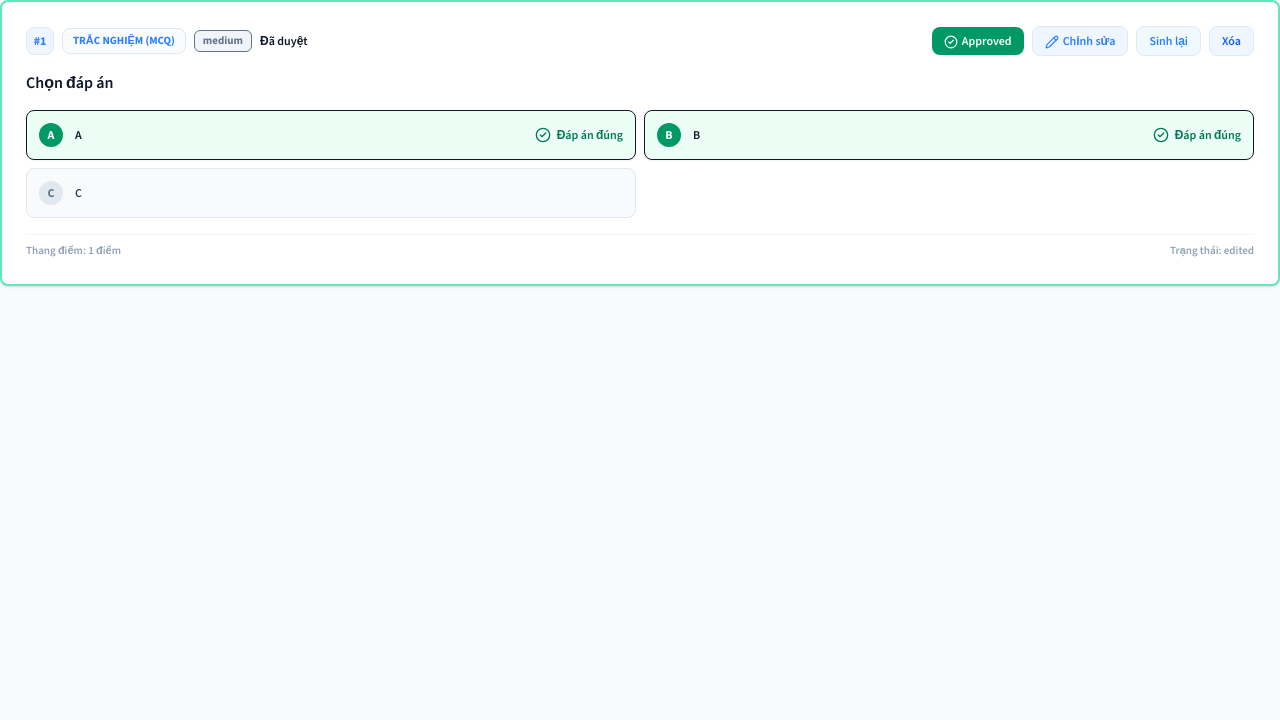
Test: QuestionCardMultipleChoice › does not switch to single-choice while multiple answers remain correct
Click the button "Chỉnh sửa". click: (1080, 41)
box: left=1032, top=26, right=1128, bottom=56
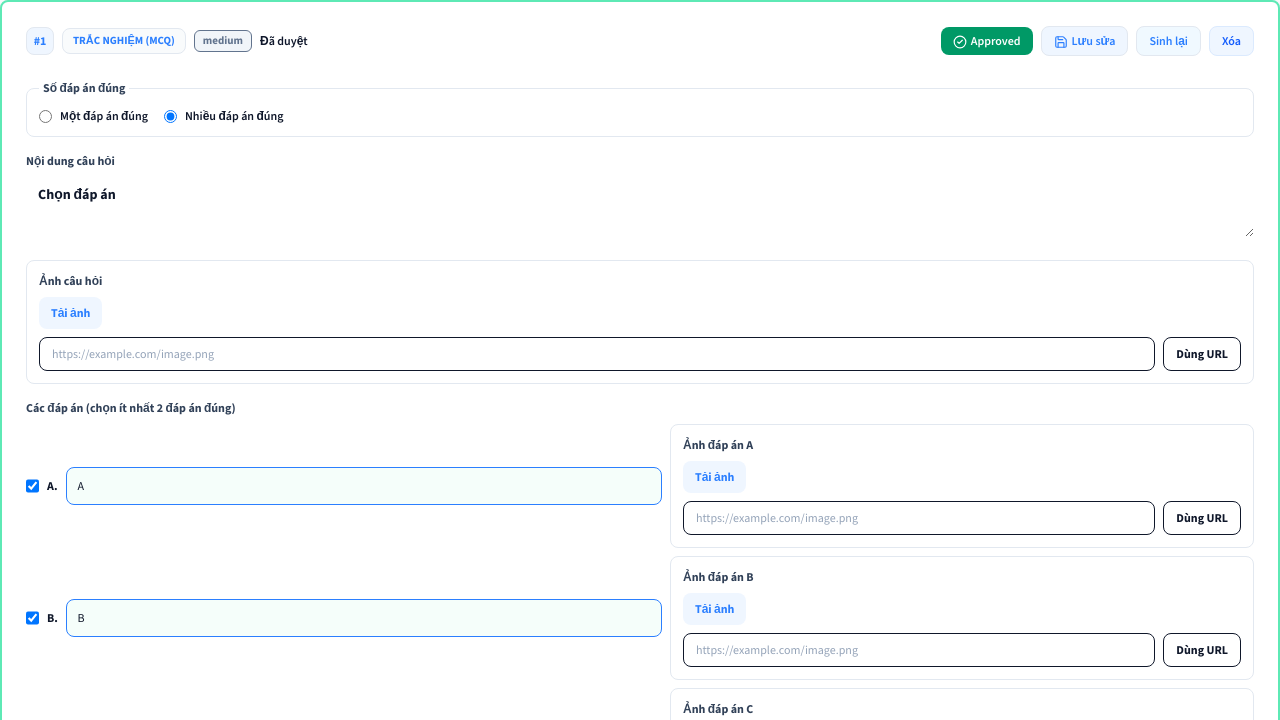
Click the radio button with aria-label "Chế độ một đáp án đúng". click: (46, 116)
box: left=39, top=110, right=52, bottom=122
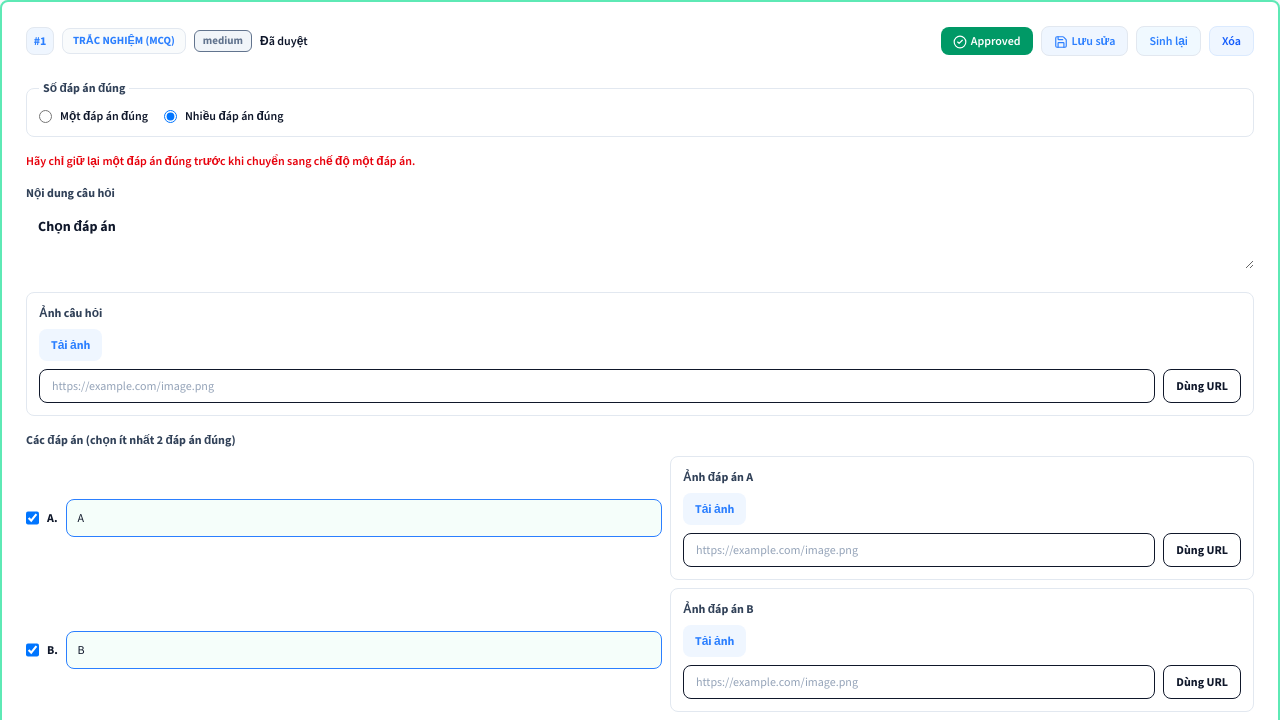
expect the radio button with aria-label "Chế độ nhiều đáp án đúng" is checked: met, box left=164, top=110, right=177, bottom=122
expect the text "chỉ giữ lại một đáp án đúng" is shown: met, box left=26, top=153, right=415, bottom=169
